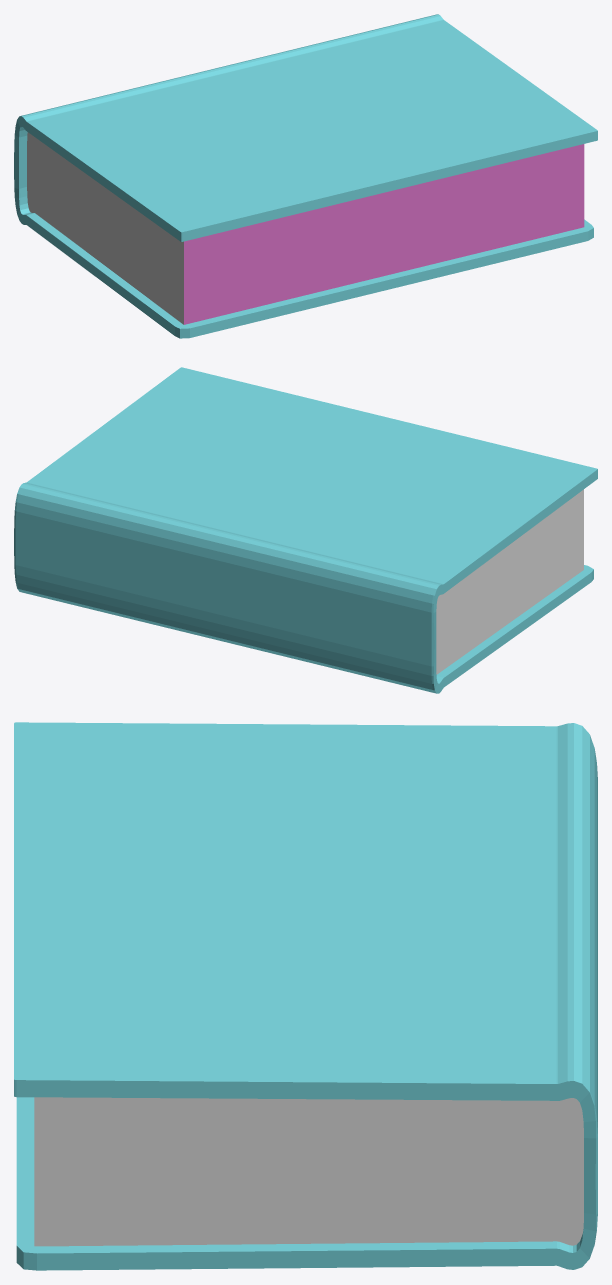
The model's file is book_thick.fbx.
3 views of the same model, one above another, from view 1: azimuth 30°, elevation 25°; view 2: azimuth 150°, elevation 25°; view 3: azimuth 270°, elevation 25° (orthographic). The views are drawn at different scales.
Visible parts, largest first — view 1: Plane.004, Plane.005; view 2: Plane.004, Plane.005; view 3: Plane.004, Plane.005.
Part boxes in pixels (x1,y1,x2,y2): Plane.004: (14,14,597,338); Plane.005: (27,132,584,324); Plane.004: (14,367,597,693); Plane.005: (436,489,583,674); Plane.004: (14,722,597,1270); Plane.005: (34,1097,583,1246).
Size of the model in its own units: 107 by 26.45 by 73.44.
